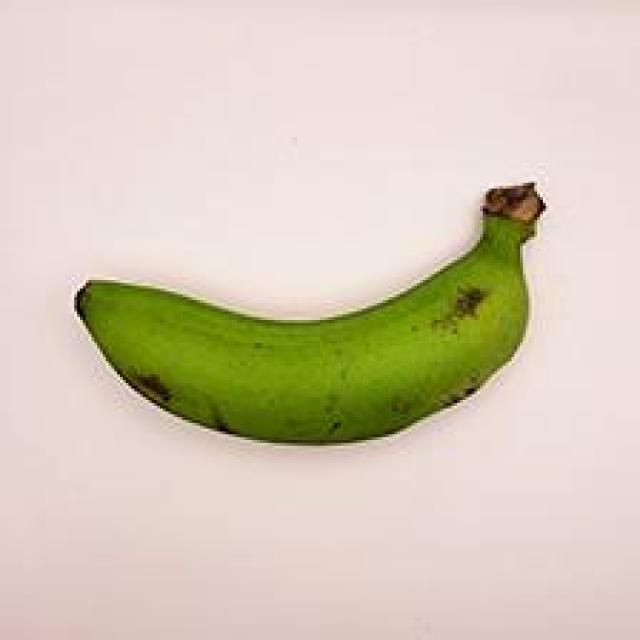Raw: (70, 155, 560, 459)
